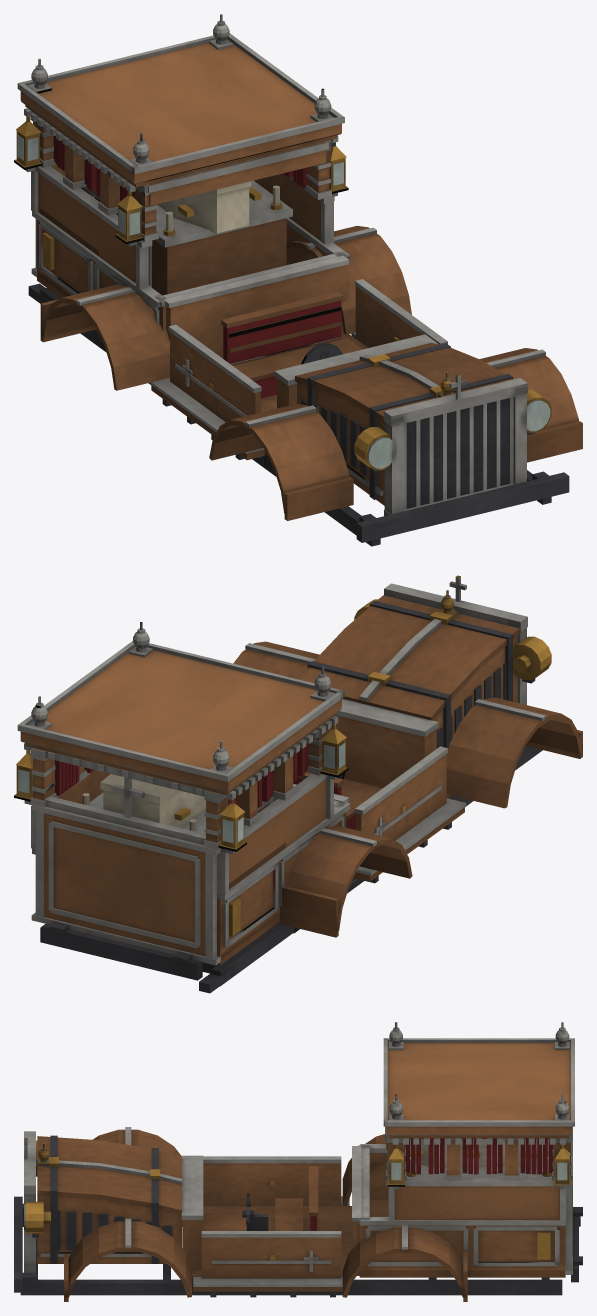
Rendered from HearseBody.fbx.
3 views of the same model, one above another, from view 1: azimuth 30°, elevation 25°; view 2: azimuth 150°, elevation 25°; view 3: azimuth 270°, elevation 25° (orthographic). The views are drawn at different scales.
Parts seen in each view (by area): view 1: HearseBody; view 2: HearseBody; view 3: HearseBody.
Part boxes in pixels (x1,y1,x2,y2): HearseBody: [14, 14, 582, 546]; HearseBody: [14, 575, 582, 993]; HearseBody: [14, 1022, 582, 1301].
Bounding box in the file's own units: 8.44 × 6.74 × 17.12.
Materials: 1 (1 with a texture image).
